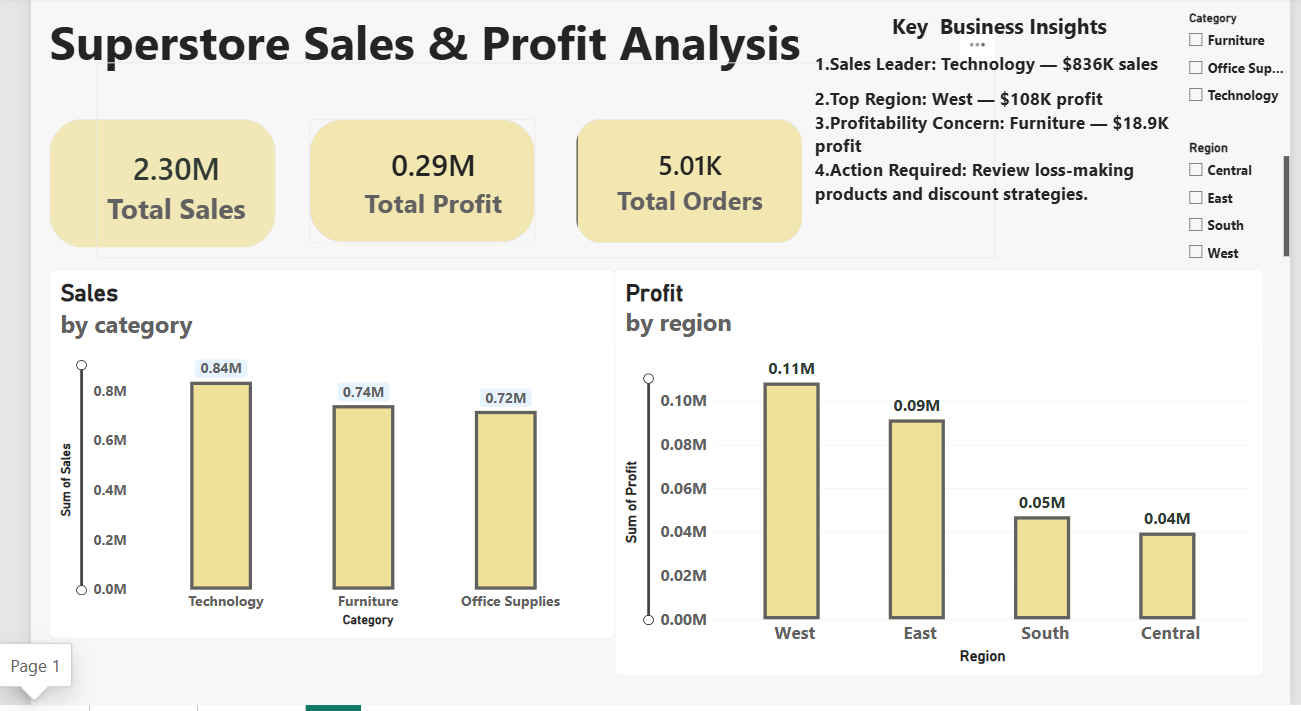

The page's visual inventory and layout, read from the dashboard file:
{"tool":"powerbi","page":{"name":"Page 1","canvas":[1920,1080],"ordinal":0},"visuals":[{"type":"cardVisual","fields":{"Data":["Sum(Superstore.Sales)"]},"box":[28.1,186.7,345.3,196.9],"z":0},{"type":"textbox","box":[28.1,0,1240.4,186.7],"z":1000},{"type":"cardVisual","fields":{"Data":["Sum(Superstore.Profit)"]},"box":[424.6,186.7,345.3,189.3],"z":2000},{"type":"cardVisual","fields":{"Data":["Count(Superstore.Order_ID)"]},"box":[831.2,186.7,345.3,189.3],"z":3000},{"type":"clusteredColumnChart","title":"Sales","fields":{"Category":["Superstore.Category"],"Y":["Sum(Superstore.Sales)"]},"box":[28.1,416.9,861.9,562.7],"z":4000},{"type":"clusteredColumnChart","title":"Profit ","fields":{"Category":["Superstore.Region"],"Y":["Sum(Superstore.Profit)"]},"box":[890,416.9,989.8,618.9],"z":5000},{"type":"slicer","fields":{"Values":["Superstore.Category"]},"box":[1759.2,21.7,160.3,164.7],"z":6000},{"type":"slicer","fields":{"Values":["Superstore.Region"]},"box":[1759.2,227.5,160.3,188.5],"z":7000},{"type":"textbox","box":[99.7,99.7,1370.9,299.2],"z":8000},{"type":"textbox","box":[1195.9,21.7,563.3,394.3],"z":9000},{"type":"textbox","box":[100,100,300,300],"z":10000},{"type":"textbox","box":[100,100,300,300],"z":11000},{"type":"textbox","box":[100,100,300,300],"z":12000}]}

Visuals, with their boxes on the page's 1920x1080 design canvas (x1, y1, x2, y2). These are canvas units, not pixel positions in the 1301x711 screenshot, which may show the page scaled, cropped or inside an application window:
cardVisual - Sum(Superstore.Sales): region(28, 187, 373, 384)
textbox: region(28, 0, 1268, 187)
cardVisual - Sum(Superstore.Profit): region(425, 187, 770, 376)
cardVisual - Count(Superstore.Order_ID): region(831, 187, 1176, 376)
"Sales" clusteredColumnChart: region(28, 417, 890, 980)
"Profit " clusteredColumnChart: region(890, 417, 1880, 1036)
slicer - Superstore.Category: region(1759, 22, 1920, 186)
slicer - Superstore.Region: region(1759, 228, 1920, 416)
textbox: region(100, 100, 1471, 399)
textbox: region(1196, 22, 1759, 416)
textbox: region(100, 100, 400, 400)
textbox: region(100, 100, 400, 400)
textbox: region(100, 100, 400, 400)
